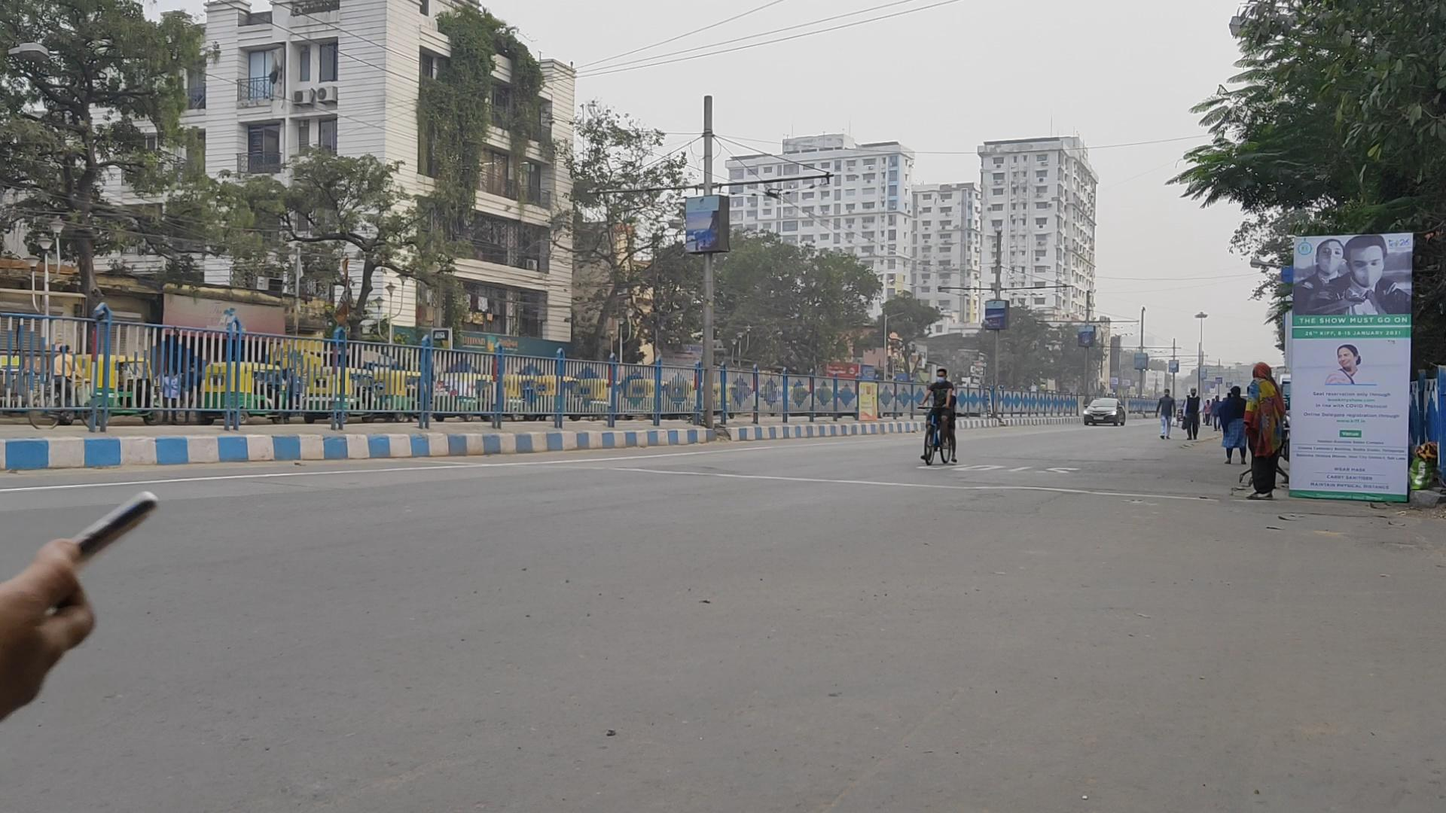bike: (921, 369, 959, 465)
car: (1083, 397, 1126, 427)
